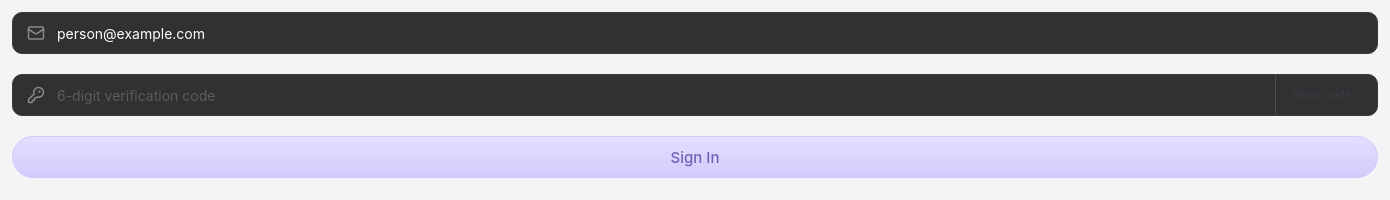
EmailCodeLoginForm › invalidates the issued code when the normalized email changes
Step 1. Click the button with class "email-code-login-form__send" → (1319, 95), box top-left (1275, 75), bottom-right (1363, 115)
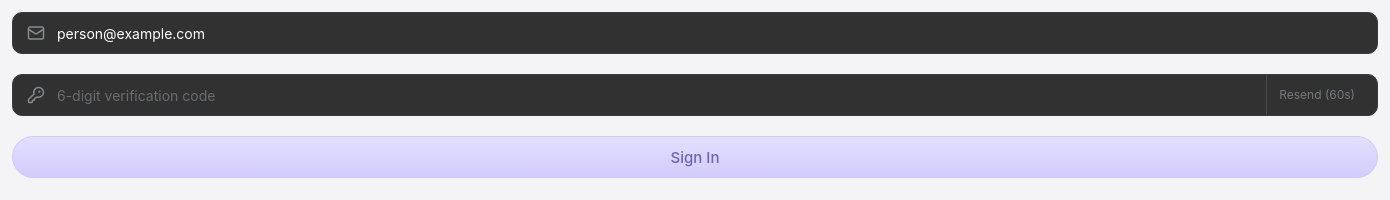
Now the button with class "email-code-login-form__send" shows "60s", box top-left (1266, 75), bottom-right (1363, 115)
Step 2. Type "123456" into the field with id "email-code-login-code" → (662, 95), box top-left (57, 76), bottom-right (1266, 114)
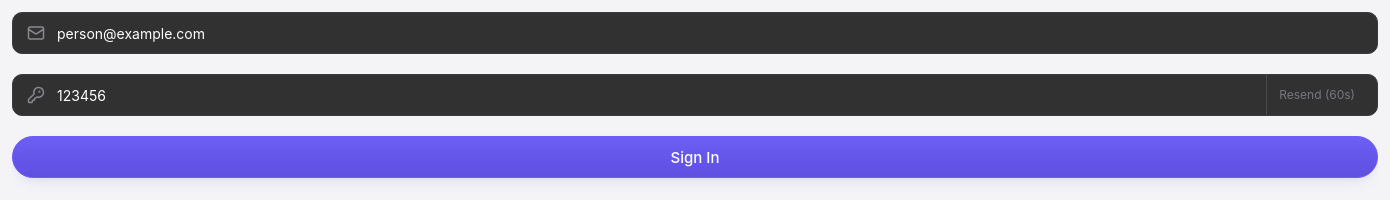
Now the button with class "submit-btn" is enabled, box top-left (12, 136), bottom-right (1378, 178)
Step 3. Replace the text in the field with id "email-code-login-email" with "another@example.com" → (710, 33), box top-left (57, 14), bottom-right (1363, 52)
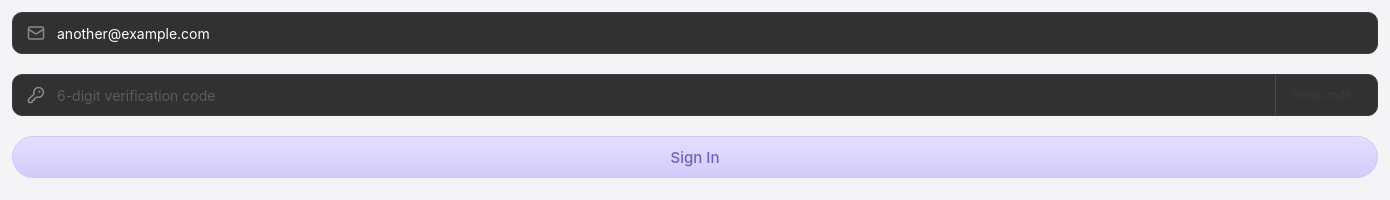
Now the field with id "email-code-login-code" is disabled, box top-left (57, 76), bottom-right (1275, 114)
Now the field with id "email-code-login-code" is empty, box top-left (57, 76), bottom-right (1275, 114)
Now the button with class "submit-btn" is disabled, box top-left (12, 136), bottom-right (1378, 178)
